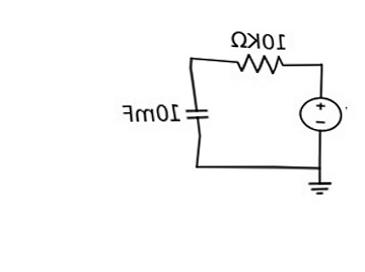Battery: (292, 85, 352, 141)
